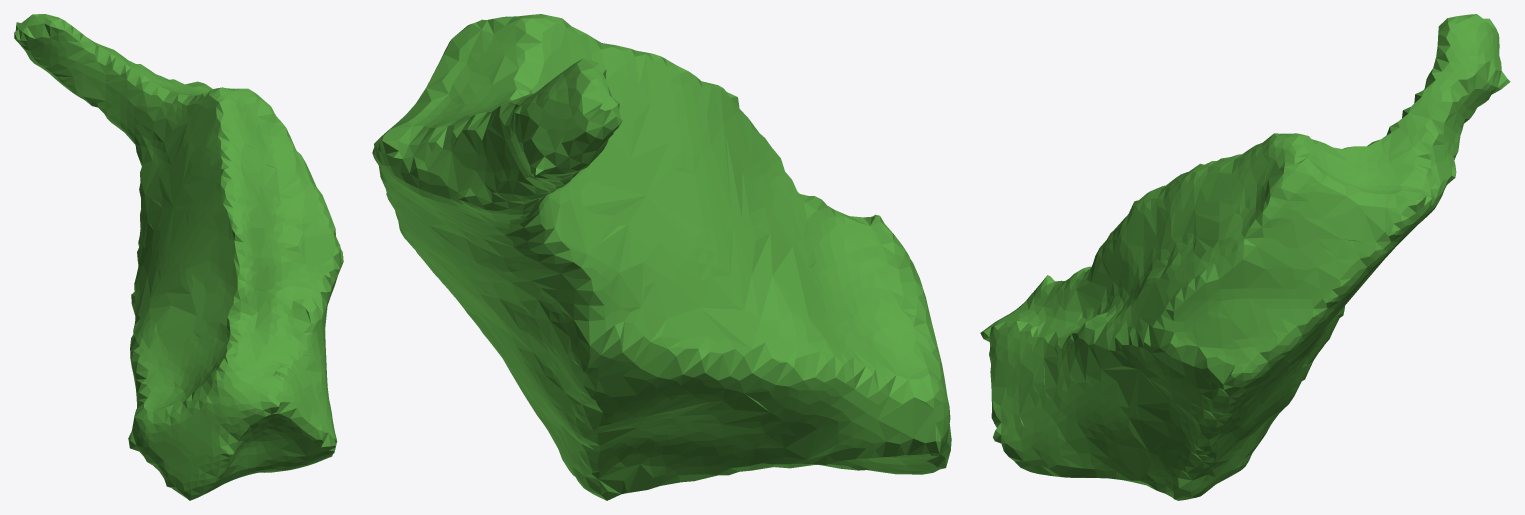
Rendered from Model_10078_LH__Auditory_cortex__caudomedial_area_(AuCM).obj.
3 renders of one model, left to right at view 1: azimuth 30°, elevation 25°; view 2: azimuth 150°, elevation 25°; view 3: azimuth 270°, elevation 25°, orthographic. The views are drawn at different scales.
Bounding box in the file's own units: 2.81 × 3.69 × 4.26.
